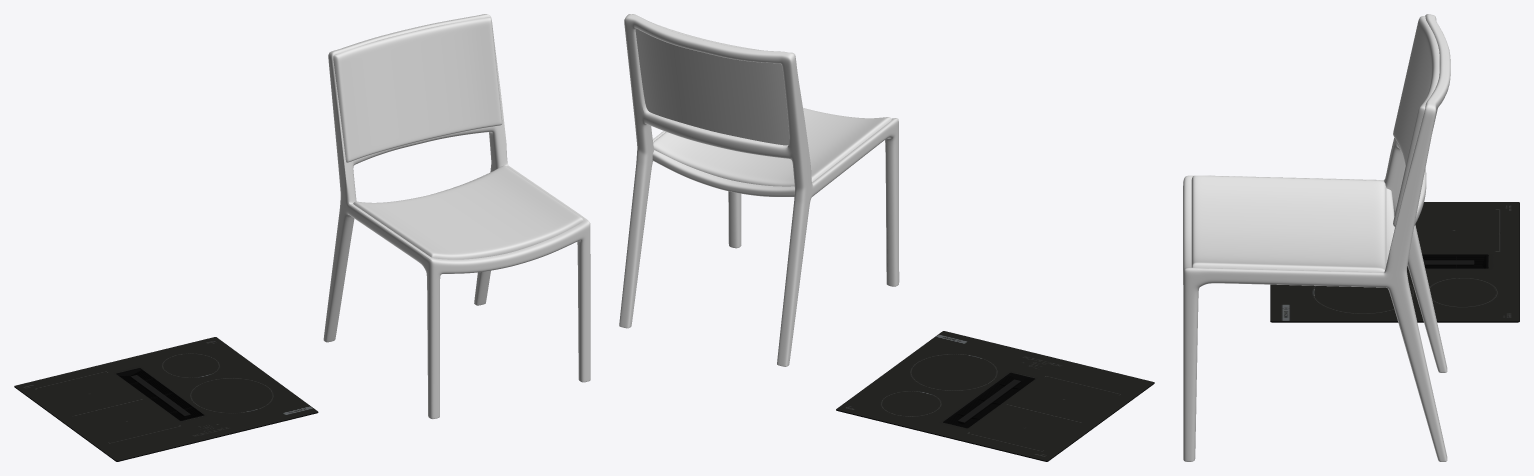
File: BOSH Induction.fbx
The picture shows the model from 3 angles, left to right: view 1: azimuth 30°, elevation 25°; view 2: azimuth 150°, elevation 25°; view 3: azimuth 270°, elevation 25°; orthographic projection. The views are drawn at different scales.
Parts seen in each view (by area): view 1: Porto chair, BOSCH induction; view 2: Porto chair, BOSCH induction; view 3: Porto chair, BOSCH induction.
Part boxes in pixels (box(x1,y1,x2,y2)): Porto chair: box(323, 14, 590, 419); BOSCH induction: box(14, 337, 318, 461); Porto chair: box(619, 14, 899, 366); BOSCH induction: box(836, 331, 1154, 461); Porto chair: box(1183, 14, 1450, 461); BOSCH induction: box(1270, 202, 1519, 322).
Size of the model in its own units: 1.29 by 0.836 by 0.7042.
